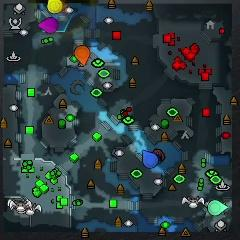p1: (143, 150, 158, 168)
p2: (209, 200, 228, 215)
p3: (38, 16, 59, 34)
p4: (48, 0, 62, 13)
p5: (74, 46, 90, 65)
x5: (61, 1, 68, 12)
